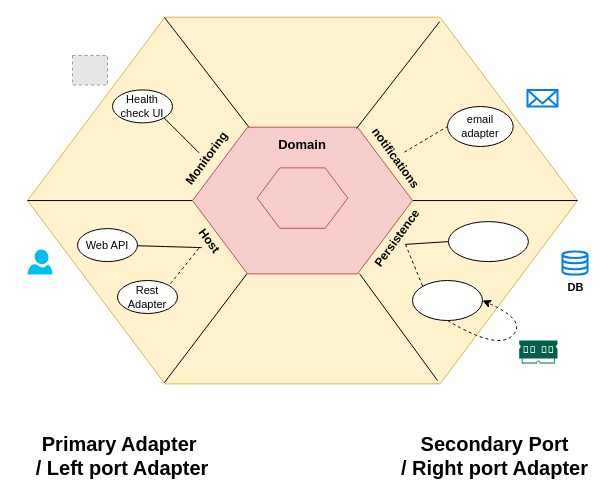
The diagram is 614 pixels wide and 497 high, and some of its shapes have lost their labels. Grey dashed boxes stand in for pictures. Each missing label, with the centre of its shape:
database adapter: point (487, 241)
Domain Api: point (302, 197)
Inmemory database: point (447, 300)
